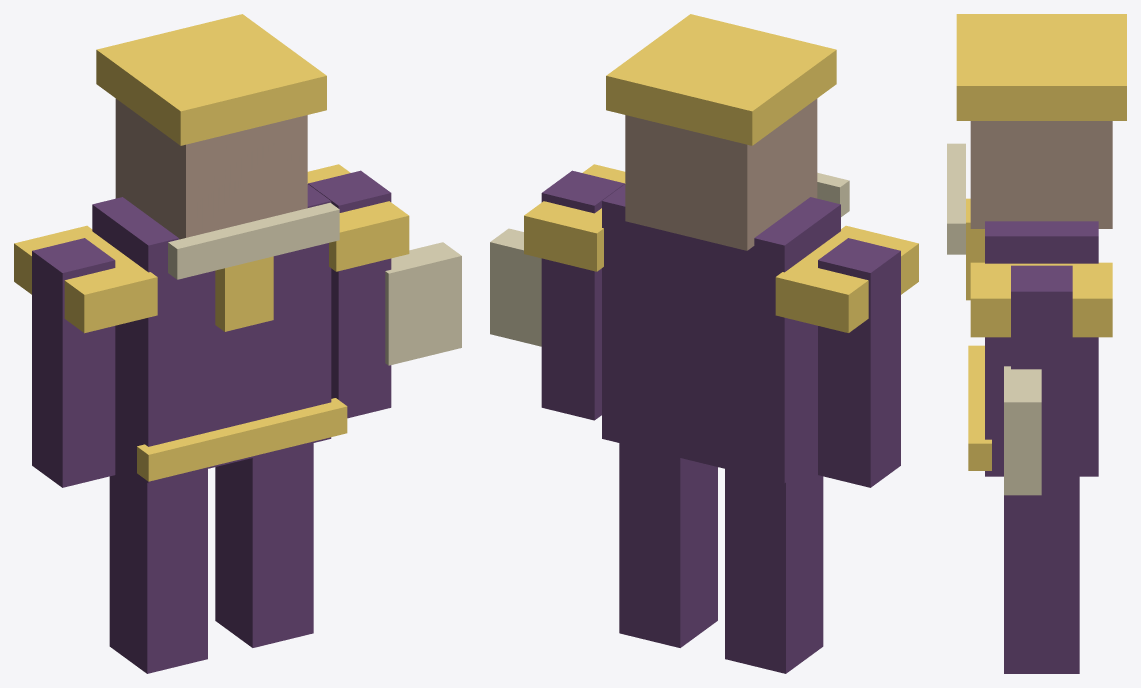
Rendered from 07_korra_gearmantle_operator_near_security.glb.
3 views of the same model, side by side, from view 1: azimuth 30°, elevation 25°; view 2: azimuth 150°, elevation 25°; view 3: azimuth 270°, elevation 25° (orthographic).
Visible parts, largest first — view 1: Korra Gearmantle, Operator near Security; view 2: Korra Gearmantle, Operator near Security; view 3: Korra Gearmantle, Operator near Security.
Boxes of the visible parts, bbox=[...] form: Korra Gearmantle, Operator near Security: bbox=[14, 14, 461, 673]; Korra Gearmantle, Operator near Security: bbox=[490, 14, 918, 673]; Korra Gearmantle, Operator near Security: bbox=[947, 14, 1126, 673].
Size of the model in its own units: 0.9969 by 1.39 by 0.3885.
